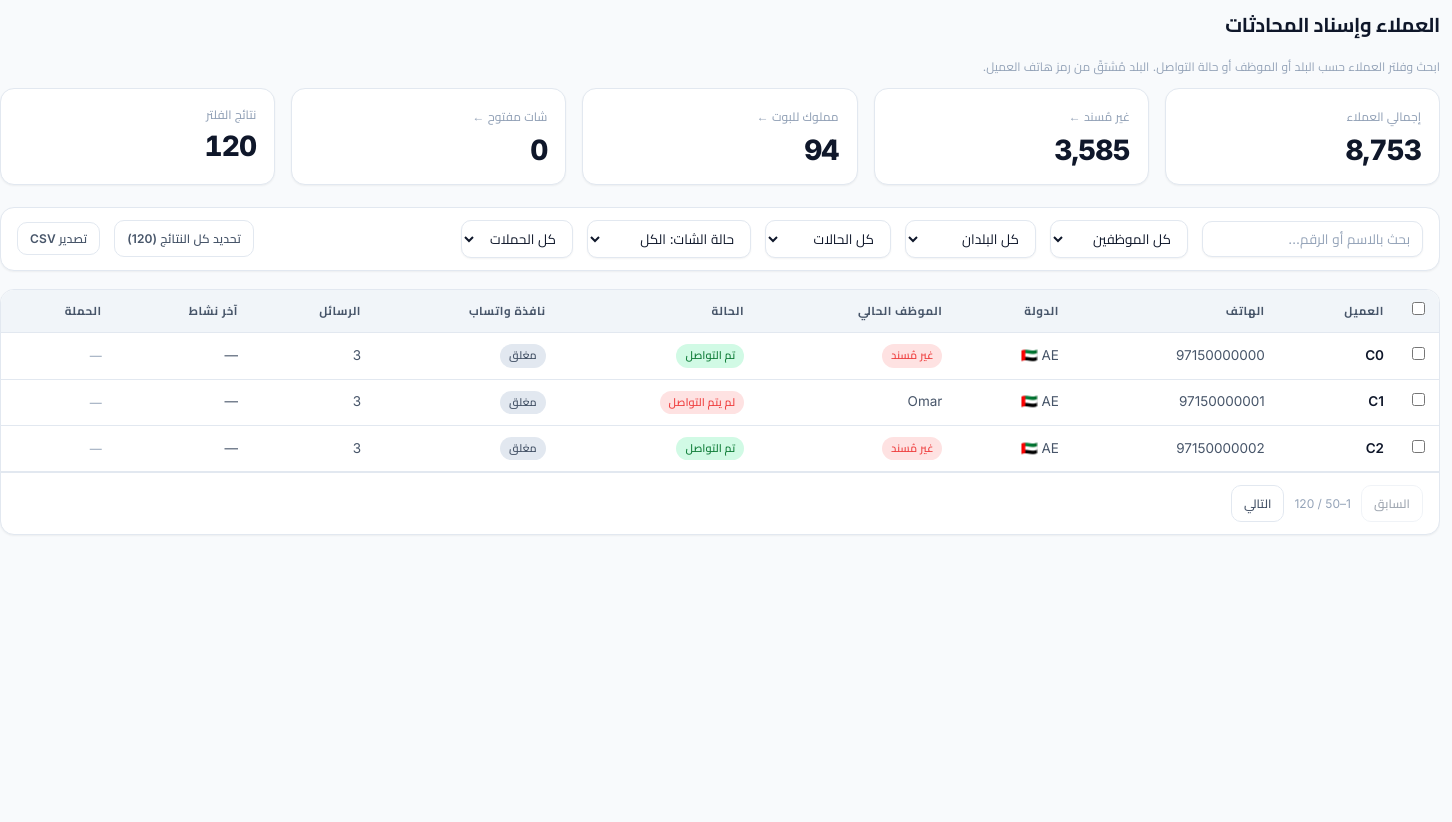
it: selection › 'select all results' takes the ids from the server, beyond the current page
Click the button "تحديد كل النتائج (120)" at coordinates (184, 239), box [114,220,254,257]
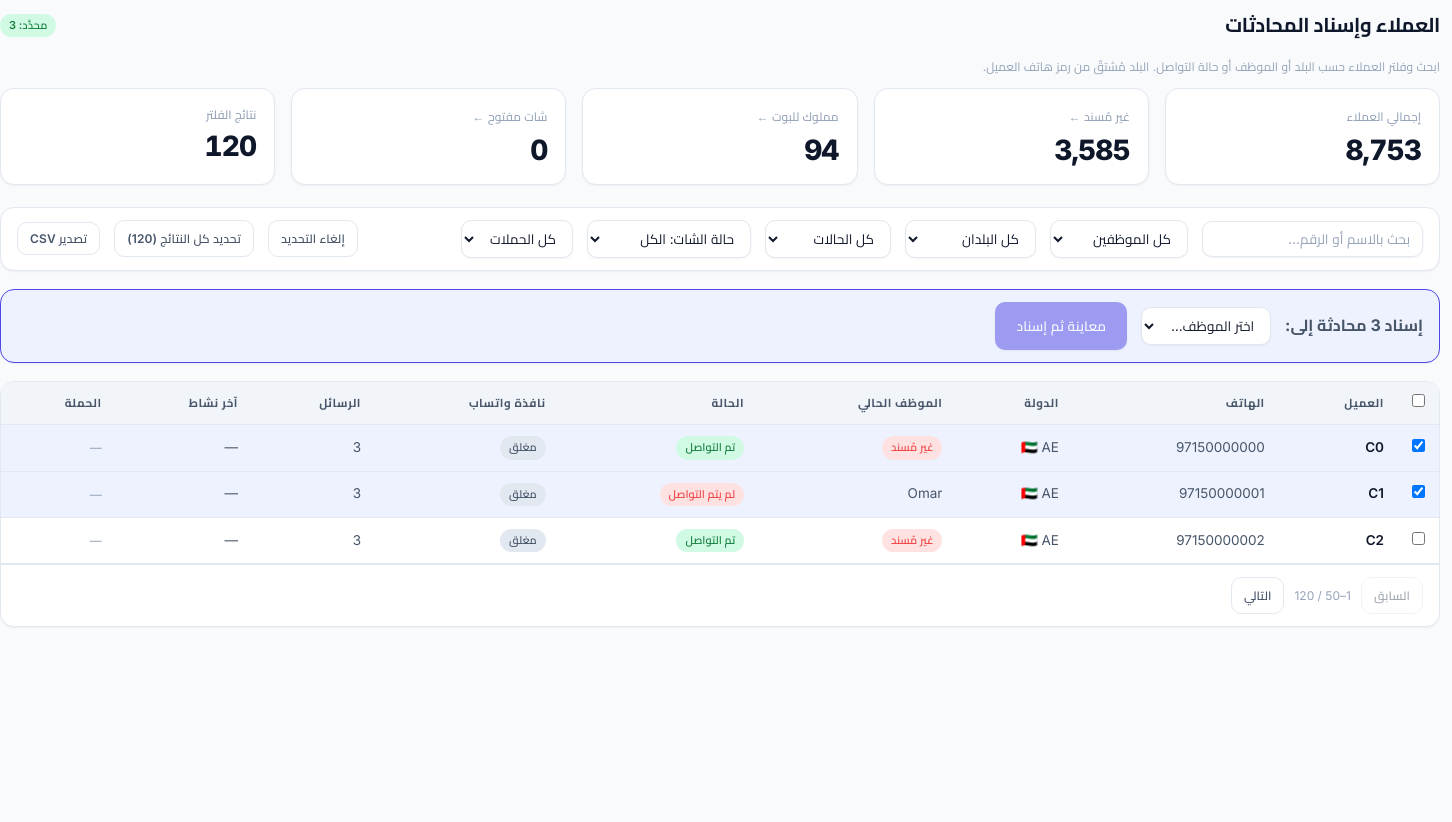
Result: the text "محدَّد: 3" is shown at [0,14,56,37]
